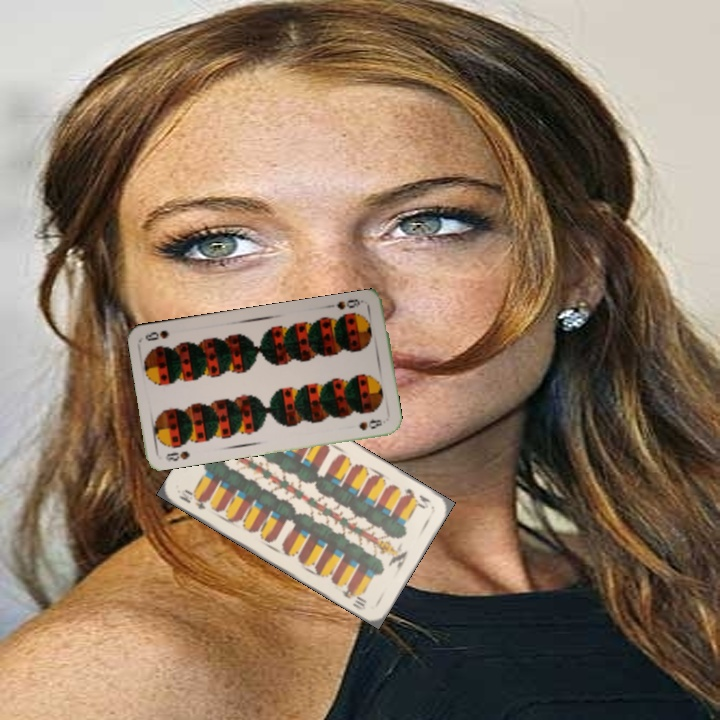E10: (174, 485, 209, 512), (400, 484, 433, 511)
S8: (333, 295, 366, 312), (161, 447, 192, 464)
